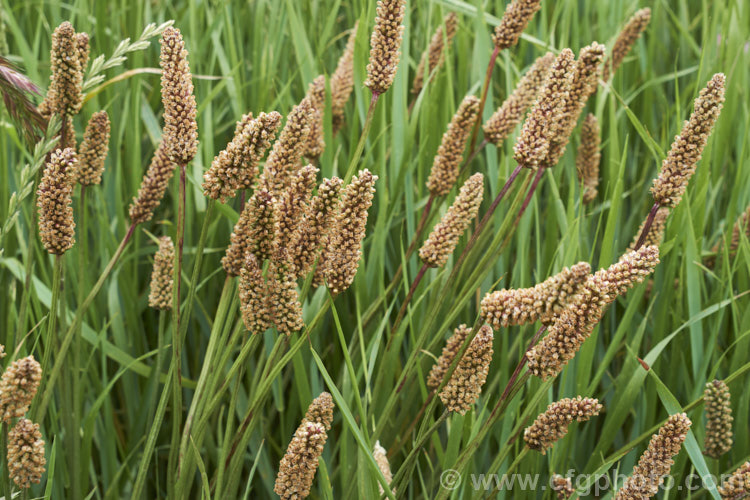buckhorn plantain: (16, 12, 722, 500)
